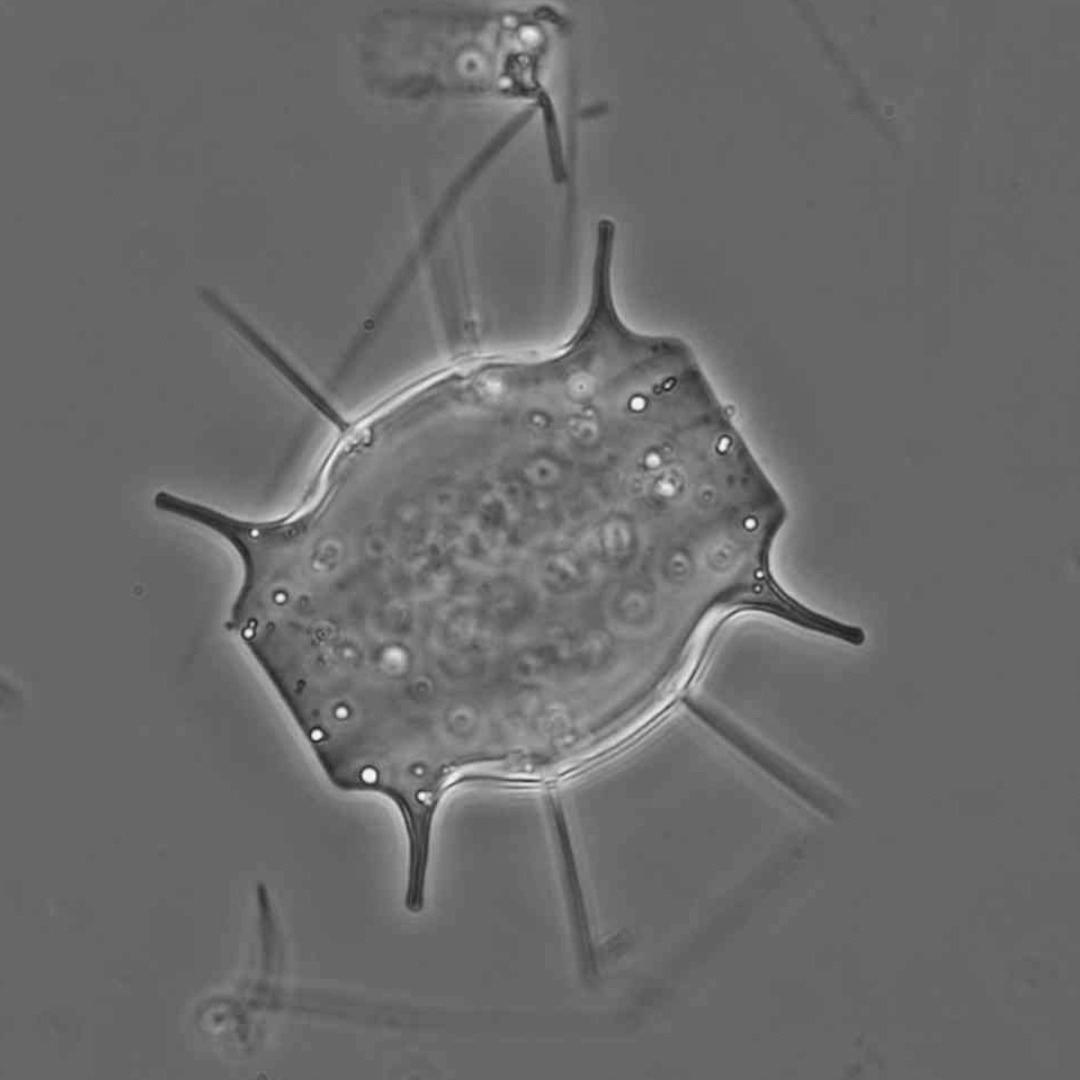odontella_mobiliensis: (157, 163, 864, 989)
